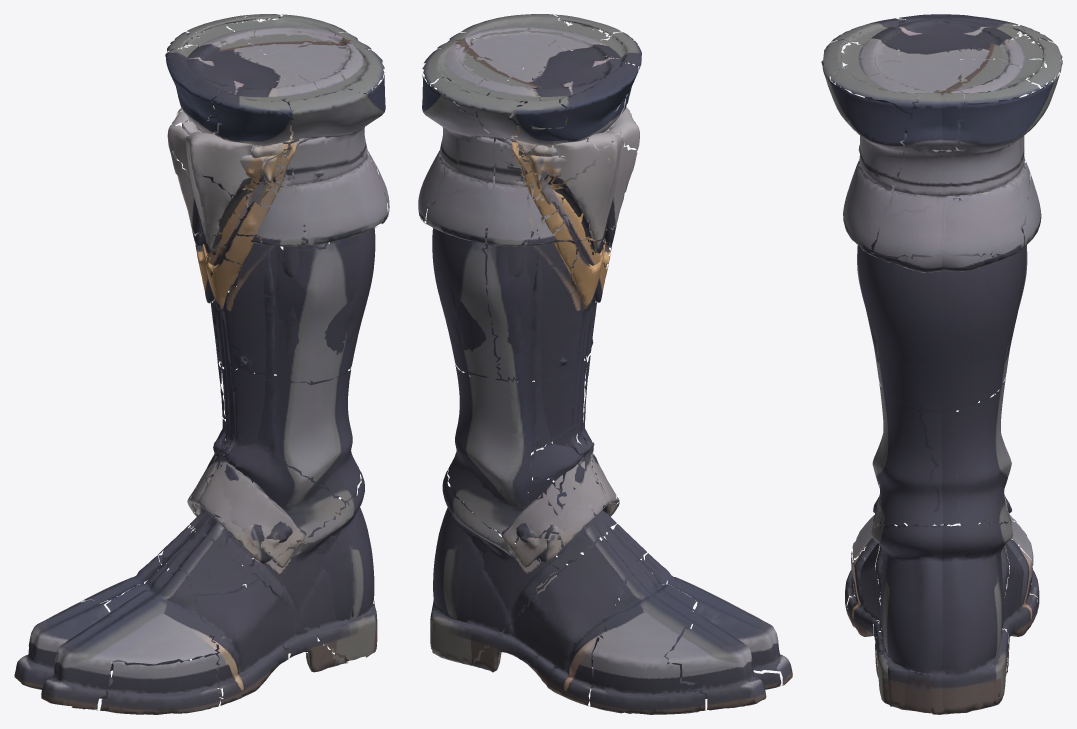
Rendered from rodin-greaves-lite.glb.
The picture shows the model from 3 angles, left to right: view 1: azimuth 30°, elevation 25°; view 2: azimuth 150°, elevation 25°; view 3: azimuth 270°, elevation 25°; orthographic projection. The views are drawn at different scales.
Parts seen in each view (by area): view 1: LeftGreave, RightGreave; view 2: LeftGreave, RightGreave; view 3: LeftGreave, RightGreave.
Boxes of the visible parts, x1,y1,x2,y2 form: LeftGreave: [41, 14, 383, 714]; RightGreave: [14, 26, 389, 698]; LeftGreave: [418, 26, 792, 698]; RightGreave: [427, 14, 766, 714]; LeftGreave: [845, 14, 1062, 714]; RightGreave: [821, 14, 1039, 714].
Size of the model in its own units: 0.6035 by 1 by 0.356.
Materials: 1 (1 with a texture image).
